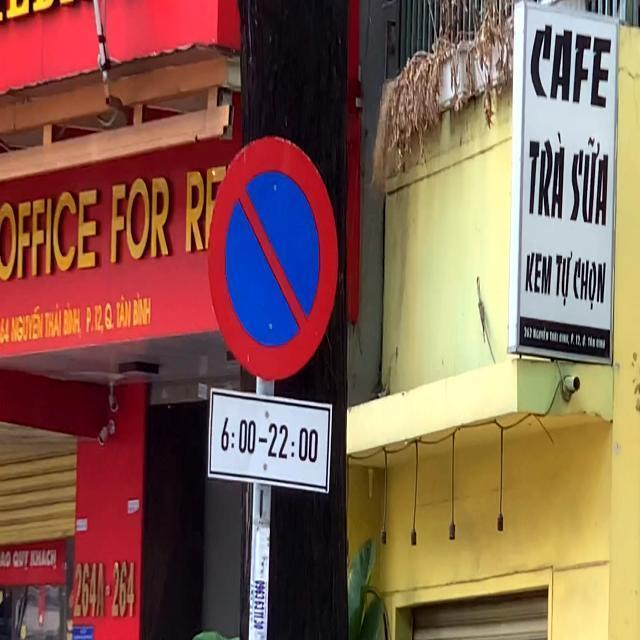131a-cam-do-xe: (203, 138, 340, 368)
